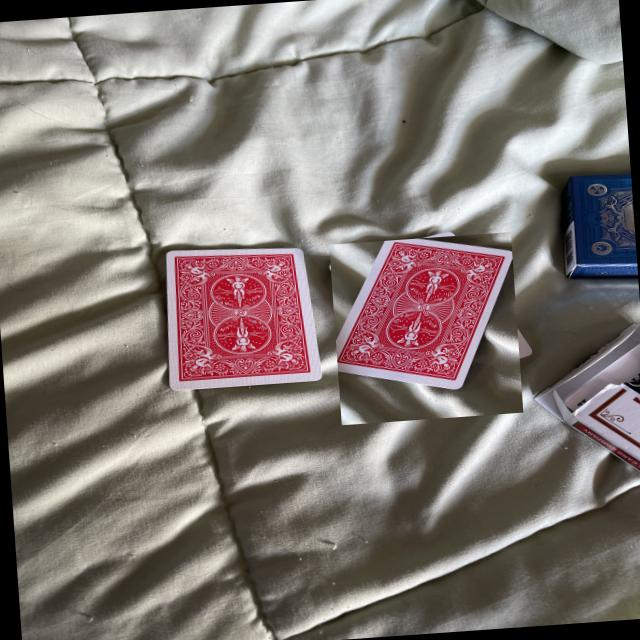card back: (330, 232, 524, 424), (144, 242, 319, 413)
